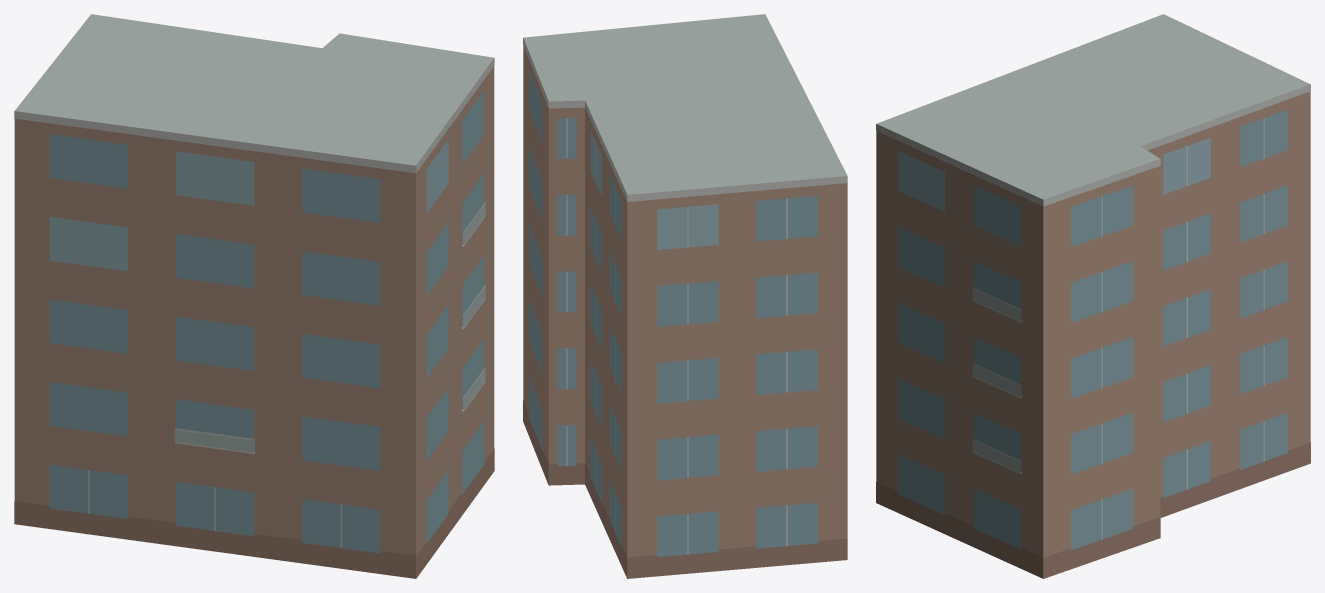
File: survey-upis-32687074.glb
3 views of the same model, side by side, from view 1: azimuth 30°, elevation 25°; view 2: azimuth 150°, elevation 25°; view 3: azimuth 270°, elevation 25° (orthographic). The views are drawn at different scales.
Visible parts, largest first — view 1: survey-upis-32687074.tmp; view 2: survey-upis-32687074.tmp; view 3: survey-upis-32687074.tmp.
Boxes of the visible parts, x1=… form: survey-upis-32687074.tmp: x1=14, y1=14, x2=494, y2=578; survey-upis-32687074.tmp: x1=523, y1=14, x2=847, y2=578; survey-upis-32687074.tmp: x1=876, y1=14, x2=1310, y2=578.
Bounding box in the file's own units: 13.98 × 13.3 × 13.82.
